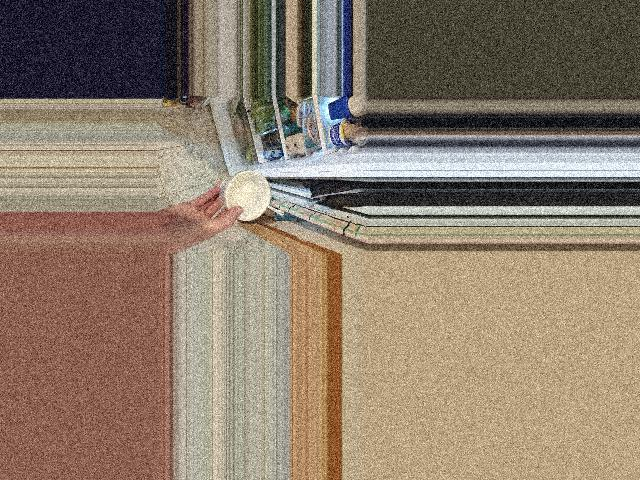cotage: (217, 171, 272, 215)
